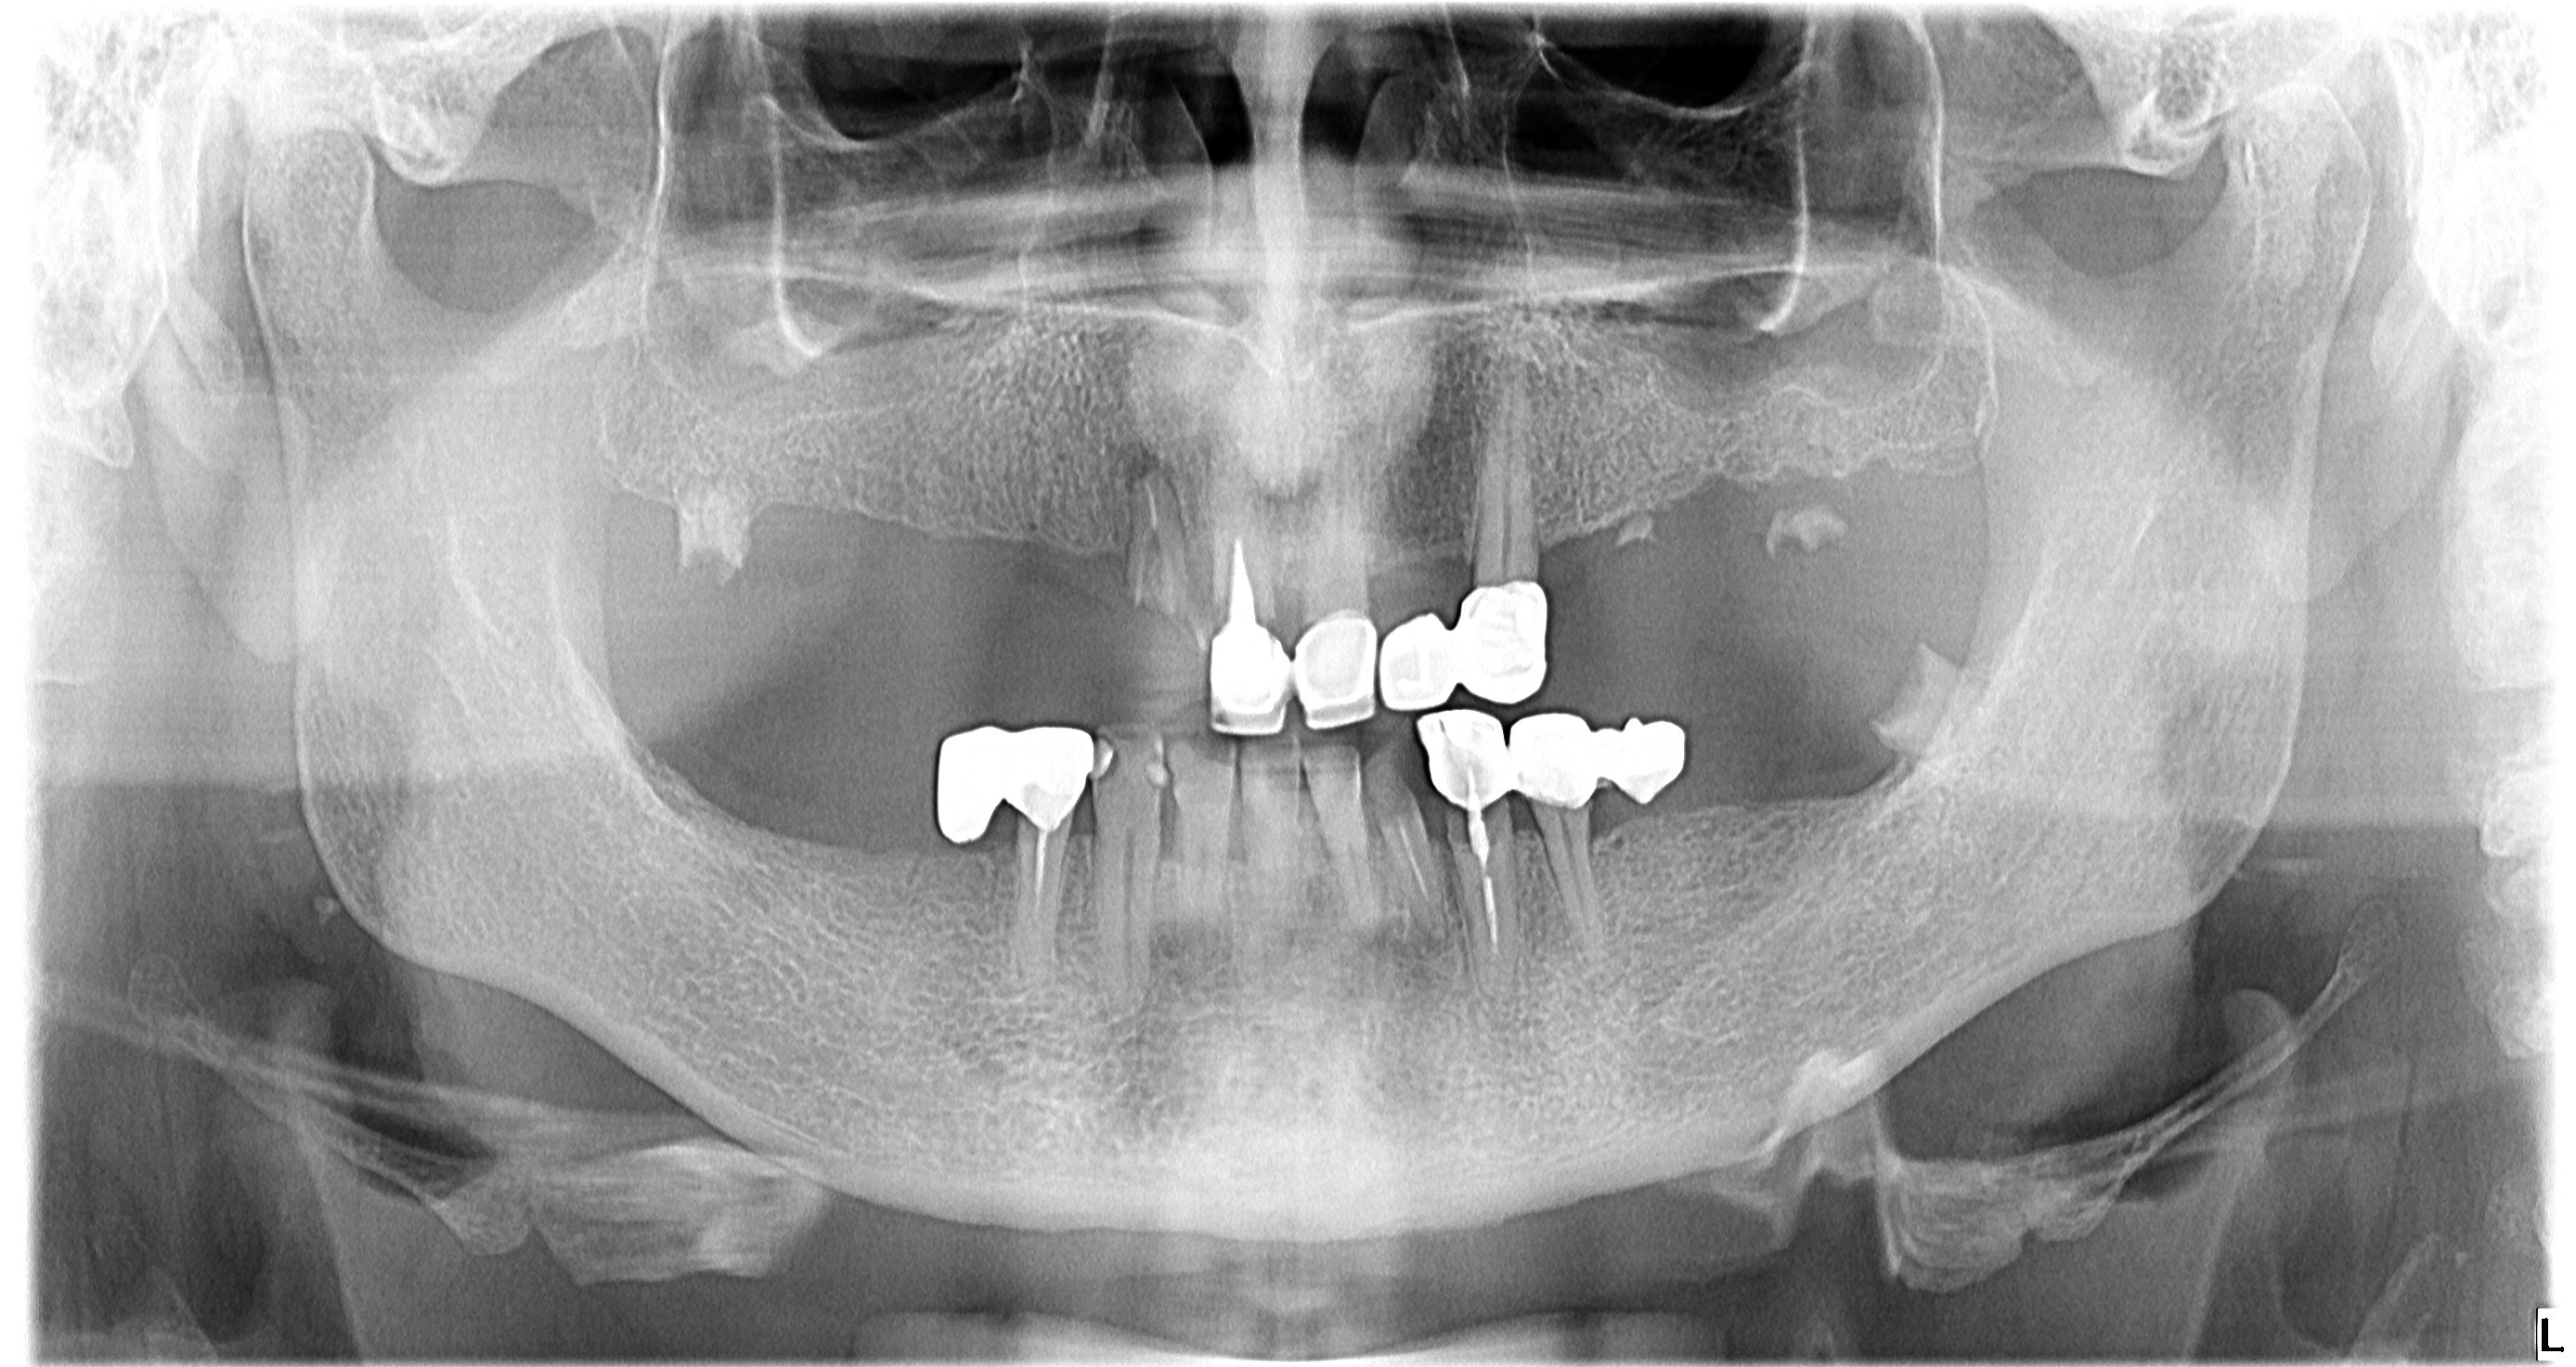API: (1382, 918, 1458, 1016), (1116, 446, 1174, 499)
CAR: (1353, 751, 1421, 824), (1440, 802, 1527, 839), (1256, 611, 1286, 645), (1205, 596, 1225, 640)
END: (1462, 805, 1516, 960), (1383, 805, 1440, 907), (1024, 815, 1058, 933), (1138, 477, 1170, 538)
OBT: (1201, 594, 1555, 737), (1400, 708, 1685, 807), (922, 725, 1085, 846)
PRR: (1087, 735, 1119, 786), (1152, 735, 1170, 792)
ROT: (1879, 633, 1987, 786), (653, 461, 756, 599), (1770, 489, 1871, 562), (1615, 499, 1663, 552)
